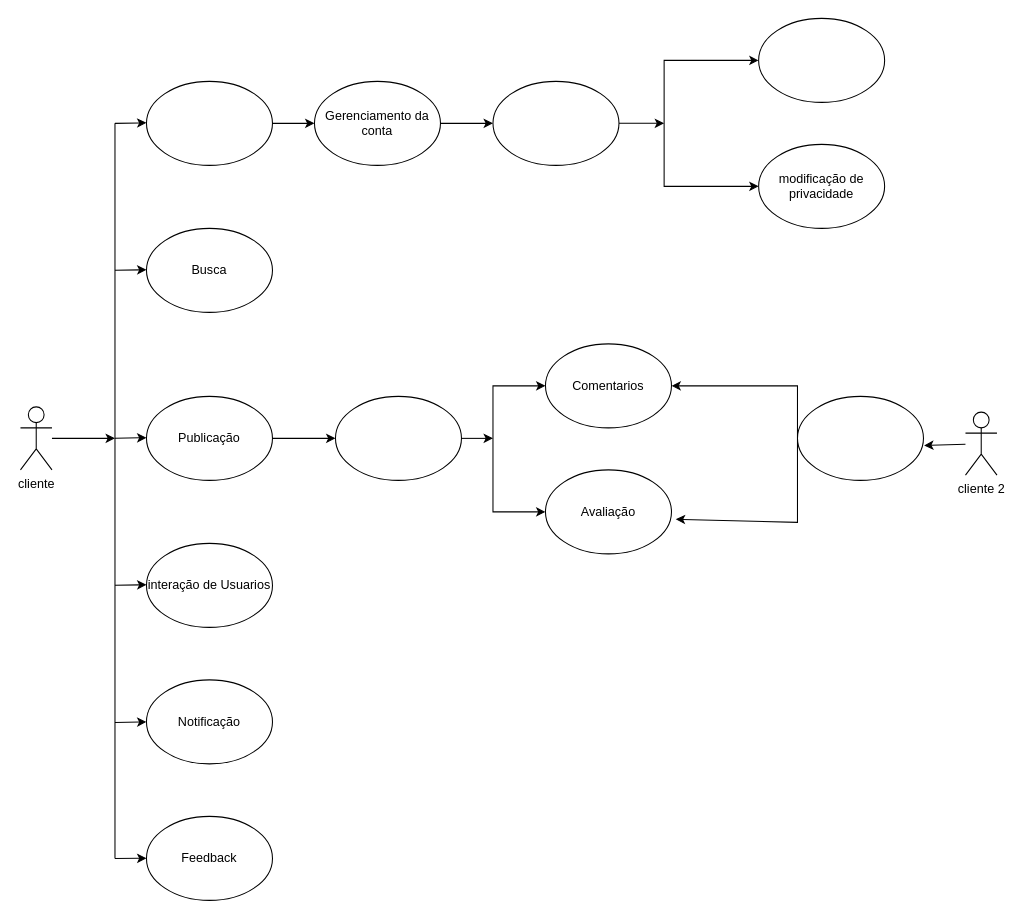
Some shapes in this 1023 by 919 pixel diagram are drawn without their labels. Here are the shapes that lost their labels. From the top down, the centre of each, then its label:
At pixel 821 59: "foto de usuarioi".
At pixel 208 122: "configurações".
At pixel 555 122: "Perfil".
At pixel 397 437: "Postagens".
At pixel 859 437: "visualizar".
